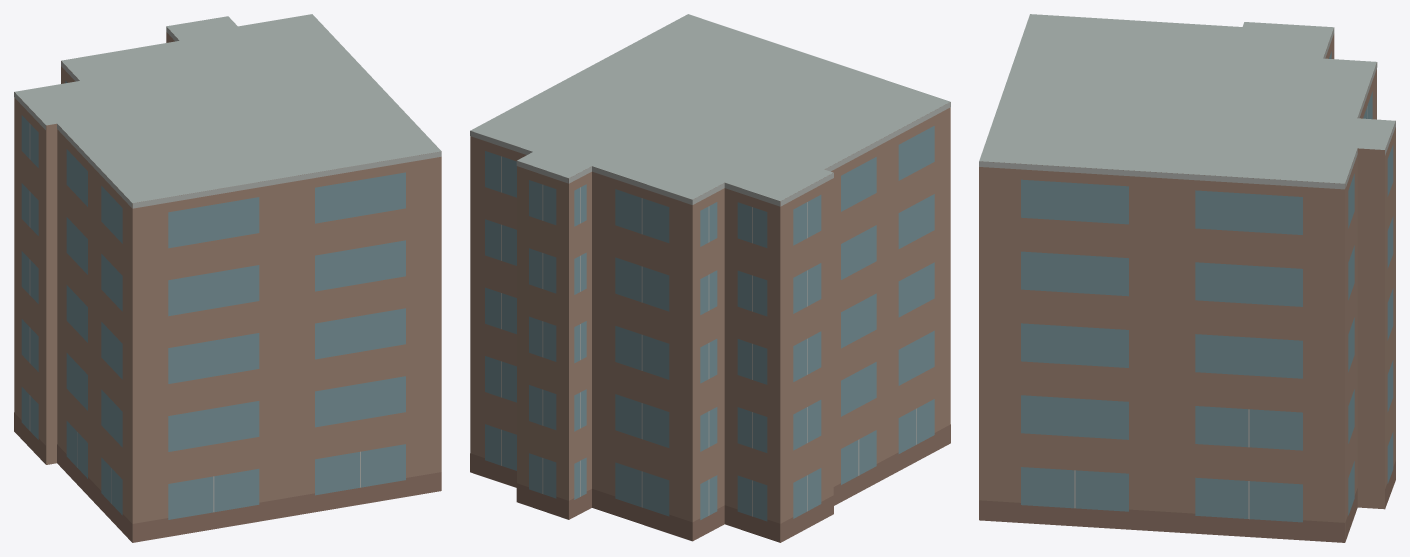
File: survey-upis-33025372.glb
3 views of the same model, side by side, from view 1: azimuth 30°, elevation 25°; view 2: azimuth 150°, elevation 25°; view 3: azimuth 270°, elevation 25° (orthographic). The views are drawn at different scales.
Visible parts, largest first — view 1: survey-upis-33025372.tmp; view 2: survey-upis-33025372.tmp; view 3: survey-upis-33025372.tmp.
Boxes of the visible parts, bbox=[...] form: survey-upis-33025372.tmp: bbox=[14, 14, 441, 542]; survey-upis-33025372.tmp: bbox=[470, 14, 950, 542]; survey-upis-33025372.tmp: bbox=[979, 14, 1395, 542].
Size of the model in its own units: 15.62 by 15.4 by 16.21.
